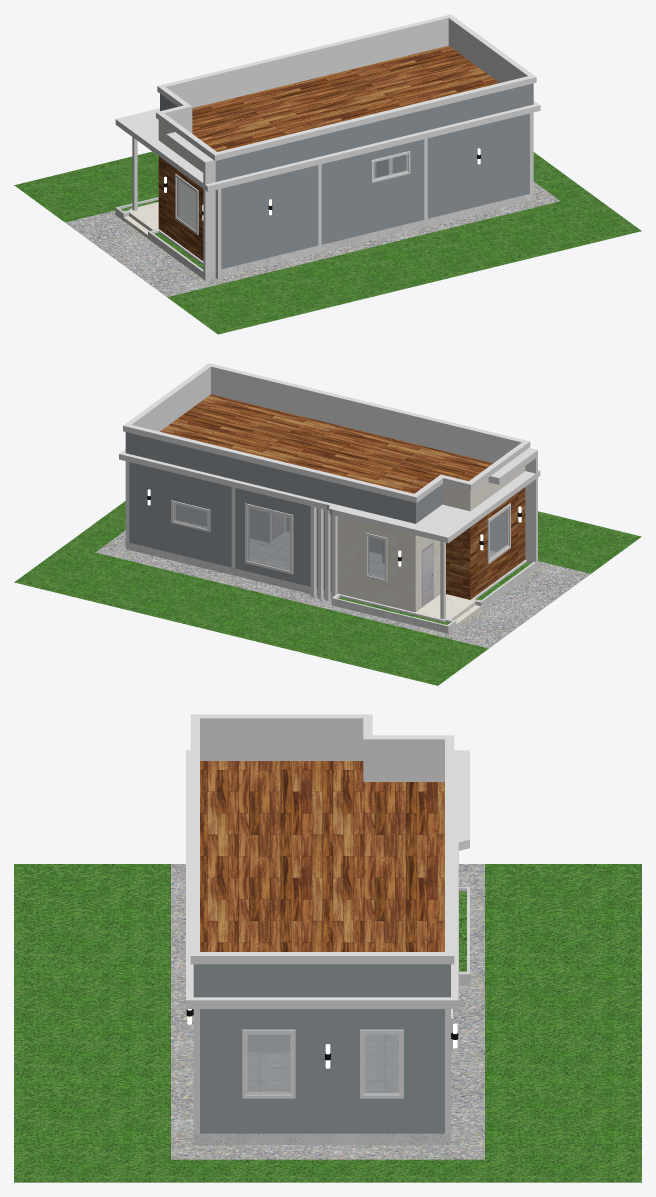
The model's file is modern_tiny_house_-_pequena_casa_moderna.glb.
3 renders of one model, top to bottom at view 1: azimuth 30°, elevation 25°; view 2: azimuth 150°, elevation 25°; view 3: azimuth 270°, elevation 25°, orthographic. The views are drawn at different scales.
Parts seen in each view (by area): view 1: pCube3, pPlane1, pCube10, pasted__pasted__pasted__pasted__pCube2 (×2); view 2: pCube3, pCube10, pPlane1, pasted__pasted__pCube2, pasted__pasted__pasted__pasted__pCube2, pasted__pCube2, pasted__pasted__pasted__pCube2; view 3: pPlane1, pCube3, pCube10, pasted__pasted__pasted__pCube2, pasted__pasted__pCube2.
Part boxes in pixels (left/top/right/bottom): pCube3: left=115, top=14, right=540, bottom=191; pPlane1: left=14, top=151, right=641, bottom=334; pCube10: left=115, top=112, right=533, bottom=280; pasted__pasted__pasted__pasted__pCube2 (×2): left=175, top=151, right=410, bottom=234; pCube3: left=119, top=363, right=540, bottom=543; pCube10: left=125, top=461, right=537, bottom=633; pPlane1: left=14, top=501, right=641, bottom=685; pasted__pasted__pCube2: left=245, top=503, right=293, bottom=574; pasted__pasted__pasted__pasted__pCube2: left=487, top=503, right=510, bottom=563; pasted__pCube2: left=365, top=533, right=387, bottom=582; pasted__pasted__pasted__pCube2: left=171, top=500, right=210, bottom=532; pPlane1: left=14, top=864, right=641, bottom=1182; pCube3: left=186, top=714, right=469, bottom=1008; pCube10: left=193, top=851, right=469, bottom=1144; pasted__pasted__pasted__pCube2: left=242, top=1029, right=295, bottom=1098; pasted__pasted__pCube2: left=360, top=1029, right=403, bottom=1098.
Bounding box in the file's own units: 15.39 × 4.29 × 12.82.
15 materials, 8 textured.
